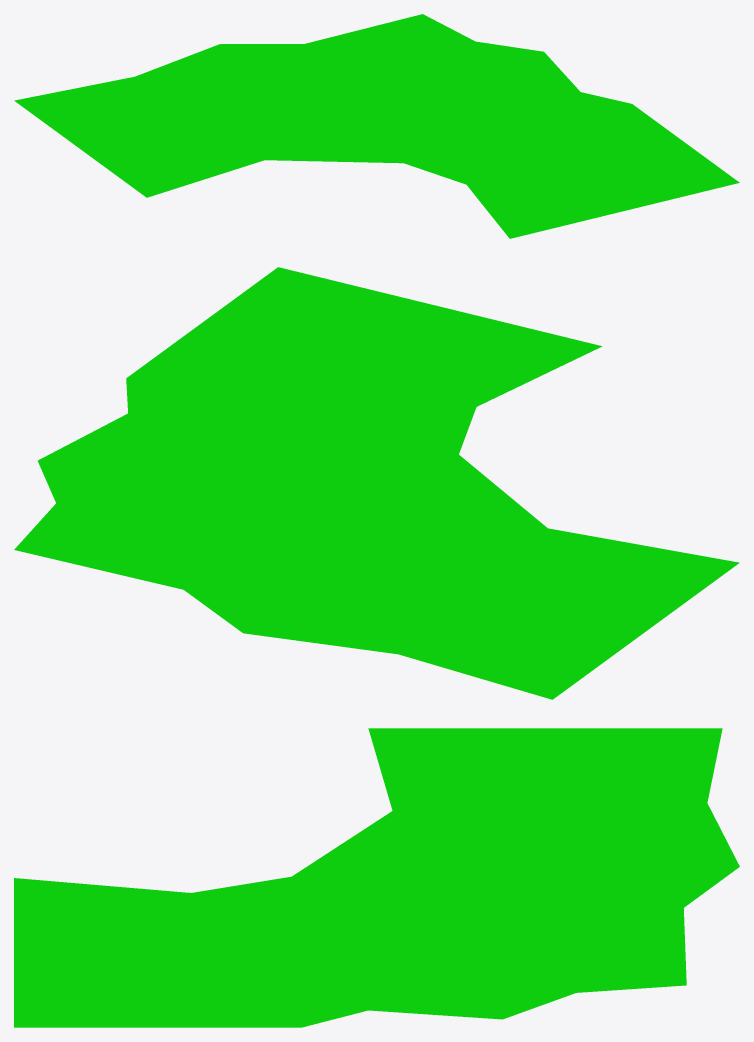
The picture shows the model from 3 angles, top to bottom: view 1: azimuth 30°, elevation 25°; view 2: azimuth 150°, elevation 25°; view 3: azimuth 270°, elevation 25°; orthographic projection. The views are drawn at different scales.
Visible parts, largest first — view 1: BG001_1018_00_c01; view 2: BG001_1018_00_c01; view 3: BG001_1018_00_c01.
Part boxes in pixels (left/top/right/bottom): BG001_1018_00_c01: left=14, top=14, right=739, bottom=238; BG001_1018_00_c01: left=14, top=267, right=739, bottom=699; BG001_1018_00_c01: left=14, top=728, right=739, bottom=1027.
Bounding box in the file's own units: 800 × 0 × 820.
